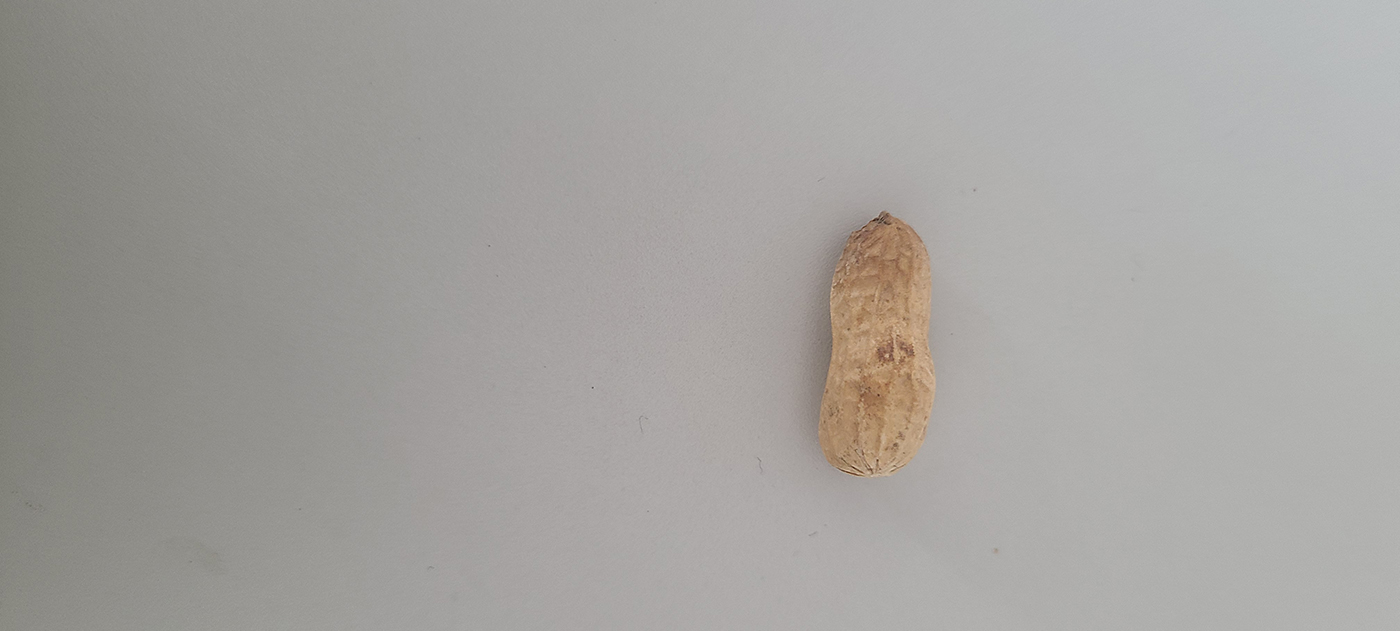h: (809, 207, 941, 477)
